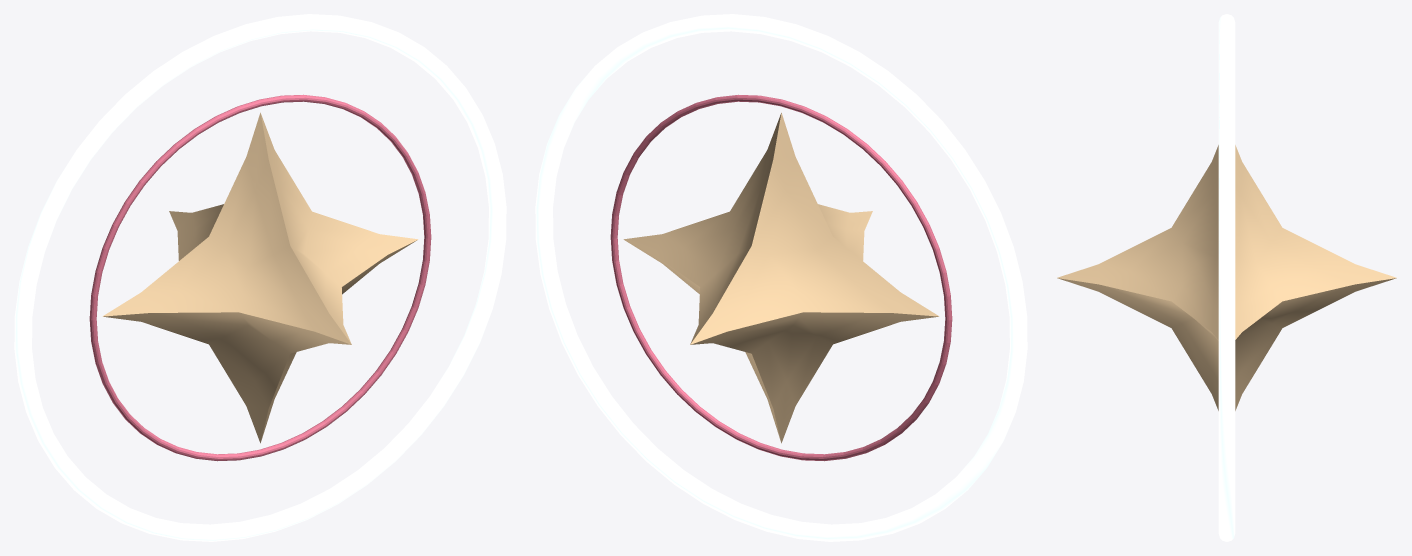
File: Pick-Up.fbx
3 views of the same model, side by side, from view 1: azimuth 30°, elevation 25°; view 2: azimuth 150°, elevation 25°; view 3: azimuth 270°, elevation 25° (orthographic). The views are drawn at different scales.
Visible parts, largest first — view 1: Star, Ring_Outer, Ring_Inner; view 2: Star, Ring_Outer, Ring_Inner; view 3: Star, Ring_Outer.
Part boxes in pixels (x1,y1,x2,y2): Star: [102, 112, 418, 443]; Ring_Outer: [14, 14, 506, 541]; Ring_Inner: [89, 94, 431, 461]; Star: [623, 112, 939, 443]; Ring_Outer: [535, 14, 1027, 541]; Ring_Inner: [610, 94, 952, 461]; Star: [1057, 145, 1396, 410]; Ring_Outer: [1218, 14, 1235, 541].
Bounding box in the file's own units: 64.11 × 64.11 × 41.47.
